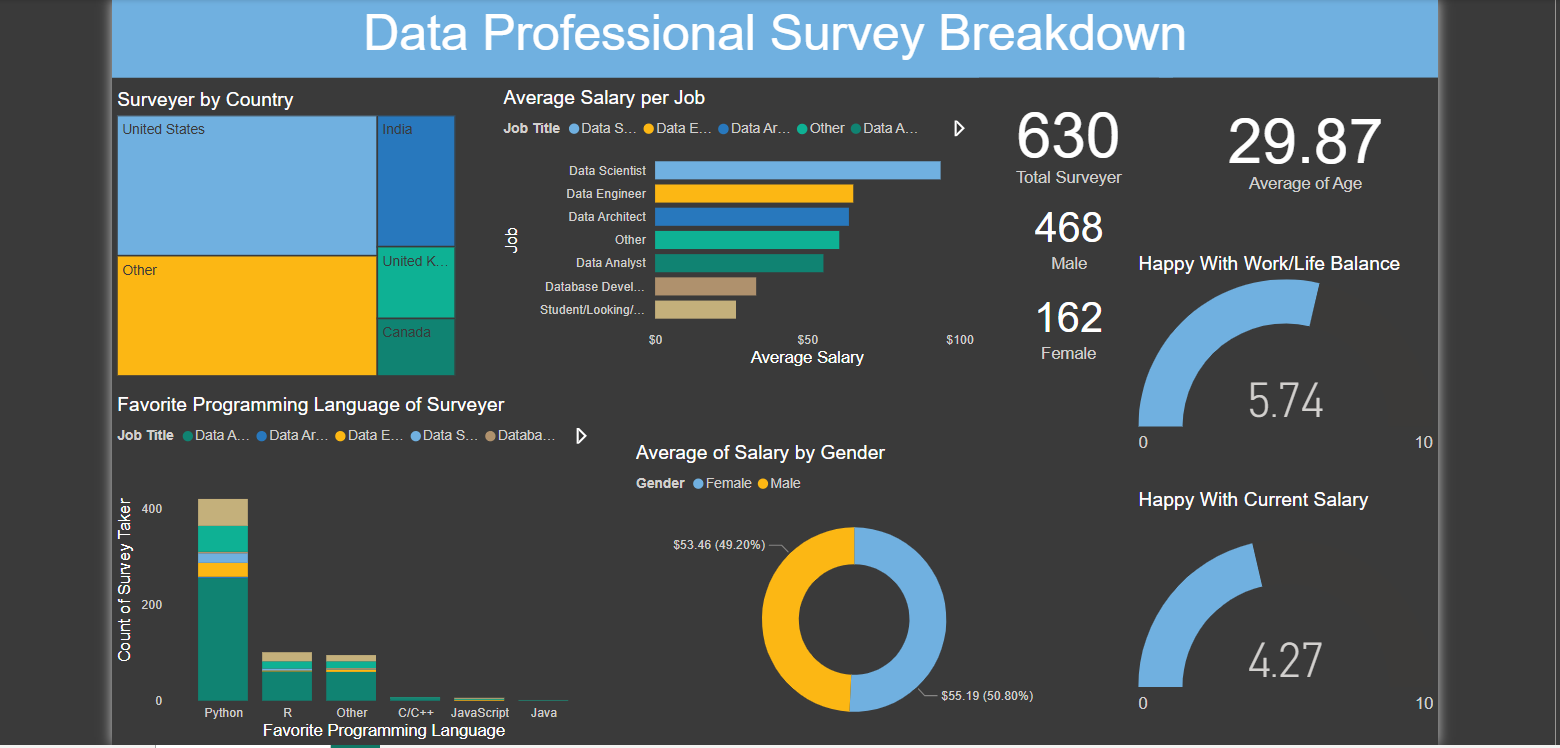

This screenshot's page, from the dashboard's own definition file:
{"tool":"powerbi","page":{"name":"Page 1","canvas":[1280,720],"ordinal":0},"visuals":[{"type":"textbox","box":[0,0,1280.3,75.8],"z":0},{"type":"card","fields":{"Values":["Count(Data Professional Survey.Unique ID)"]},"box":[837.3,76,172.5,118.2],"z":1000},{"type":"card","fields":{"Values":["Avg(Data Professional Survey.Q10 - Current Age)"]},"box":[1024.7,75.8,255.6,129.6],"z":2000},{"type":"barChart","title":"Average Salary per Job","fields":{"Category":["Data Professional Survey.Q1 - Which Title Best Fits your Current Role?.1"],"Y":["Avg(Data Professional Survey.Average Salary)"],"Series":["Data Professional Survey.Q1 - Which Title Best Fits your Current Role?.1"]},"box":[372.8,84.5,464.5,275.1],"z":3000},{"type":"columnChart","title":"Favorite Programming Language  of Surveyer","fields":{"Category":["Data Professional Survey.Q5 - Favorite Programming Language.1"],"Y":["CountNonNull(Data Professional Survey.Unique ID)"],"Series":["Data Professional Survey.Q1 - Which Title Best Fits your Current Role?.1"]},"box":[0,381.5,472,338.7],"z":4000},{"type":"treemap","title":"Surveyer by Country","fields":{"Group":["Data Professional Survey.Q11 - Which Country do you live in?.1"],"Values":["CountNonNull(Data Professional Survey.Q11 - Which Country do you live in?.1)"]},"box":[0,86.9,336.6,282.3],"z":5000},{"type":"gauge","title":"Happy With Work/Life Balance","fields":{"Y":["Avg(Data Professional Survey.Q6 - How Happy are you in your Current Position with the following? (Work/Life Balance))"],"MinValue":["Min(Data Professional Survey.Q6 - How Happy are you in your Current Position with the following? (Work/Life Balance))1"],"MaxValue":["Max(Data Professional Survey.Q6 - How Happy are you in your Current Position with the following? (Work/Life Balance))2"]},"box":[985.6,244.6,294.7,200.5],"z":6000},{"type":"gauge","title":"Happy With Current Salary","fields":{"Y":["Avg(Data Professional Survey.Q6 - How Happy are you in your Current Position with the following? (Salary))"],"MinValue":["Min(Data Professional Survey.Q6 - How Happy are you in your Current Position with the following? (Salary))"],"MaxValue":["Max(Data Professional Survey.Q6 - How Happy are you in your Current Position with the following? (Salary))"]},"box":[985.6,473.2,294.7,247],"z":7000},{"type":"donutChart","title":"Average of Salary by Gender","fields":{"Category":["Data Professional Survey.Q9 - Male/Female?"],"Y":["Avg(Data Professional Survey.Average Salary)"]},"box":[500.1,426.8,431.7,293.5],"z":8000},{"type":"card","fields":{"Values":["Data Professional Survey.Male count"]},"box":[878.3,187,91.7,82],"z":8001},{"type":"card","fields":{"Values":["Data Professional Survey.Female count"]},"box":[873.5,270.2,100.1,89.3],"z":8002}]}

Visuals, with their boxes on the page's 1280x720 design canvas (x1, y1, x2, y2). These are canvas units, not pixel positions in the 1560x748 screenshot, which may show the page scaled, cropped or inside an application window:
textbox: detection(0, 0, 1280, 76)
card - Count(Data Professional Survey.Unique ID): detection(837, 76, 1010, 194)
card - Avg(Data Professional Survey.Q10 - Current Age): detection(1025, 76, 1280, 205)
"Average Salary per Job" barChart: detection(373, 84, 837, 360)
"Favorite Programming Language  of Surveyer" columnChart: detection(0, 382, 472, 720)
"Surveyer by Country" treemap: detection(0, 87, 337, 369)
"Happy With Work/Life Balance" gauge: detection(986, 245, 1280, 445)
"Happy With Current Salary" gauge: detection(986, 473, 1280, 720)
"Average of Salary by Gender" donutChart: detection(500, 427, 932, 720)
card - Data Professional Survey.Male count: detection(878, 187, 970, 269)
card - Data Professional Survey.Female count: detection(874, 270, 974, 360)
